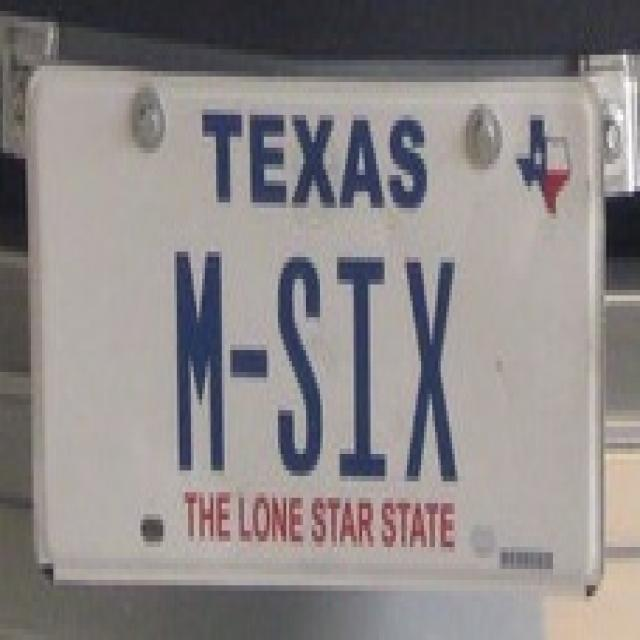licenseplate: (12, 20, 616, 633)
